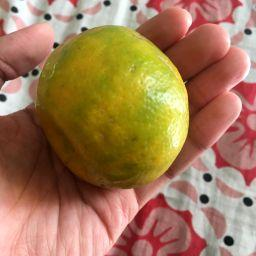orange: (36, 23, 191, 191)
